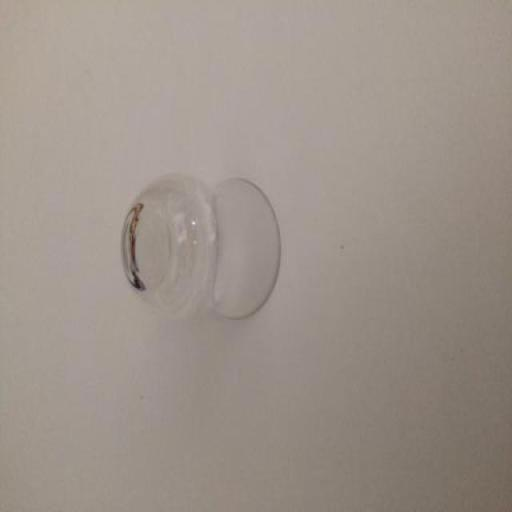glass: (112, 162, 286, 340)
